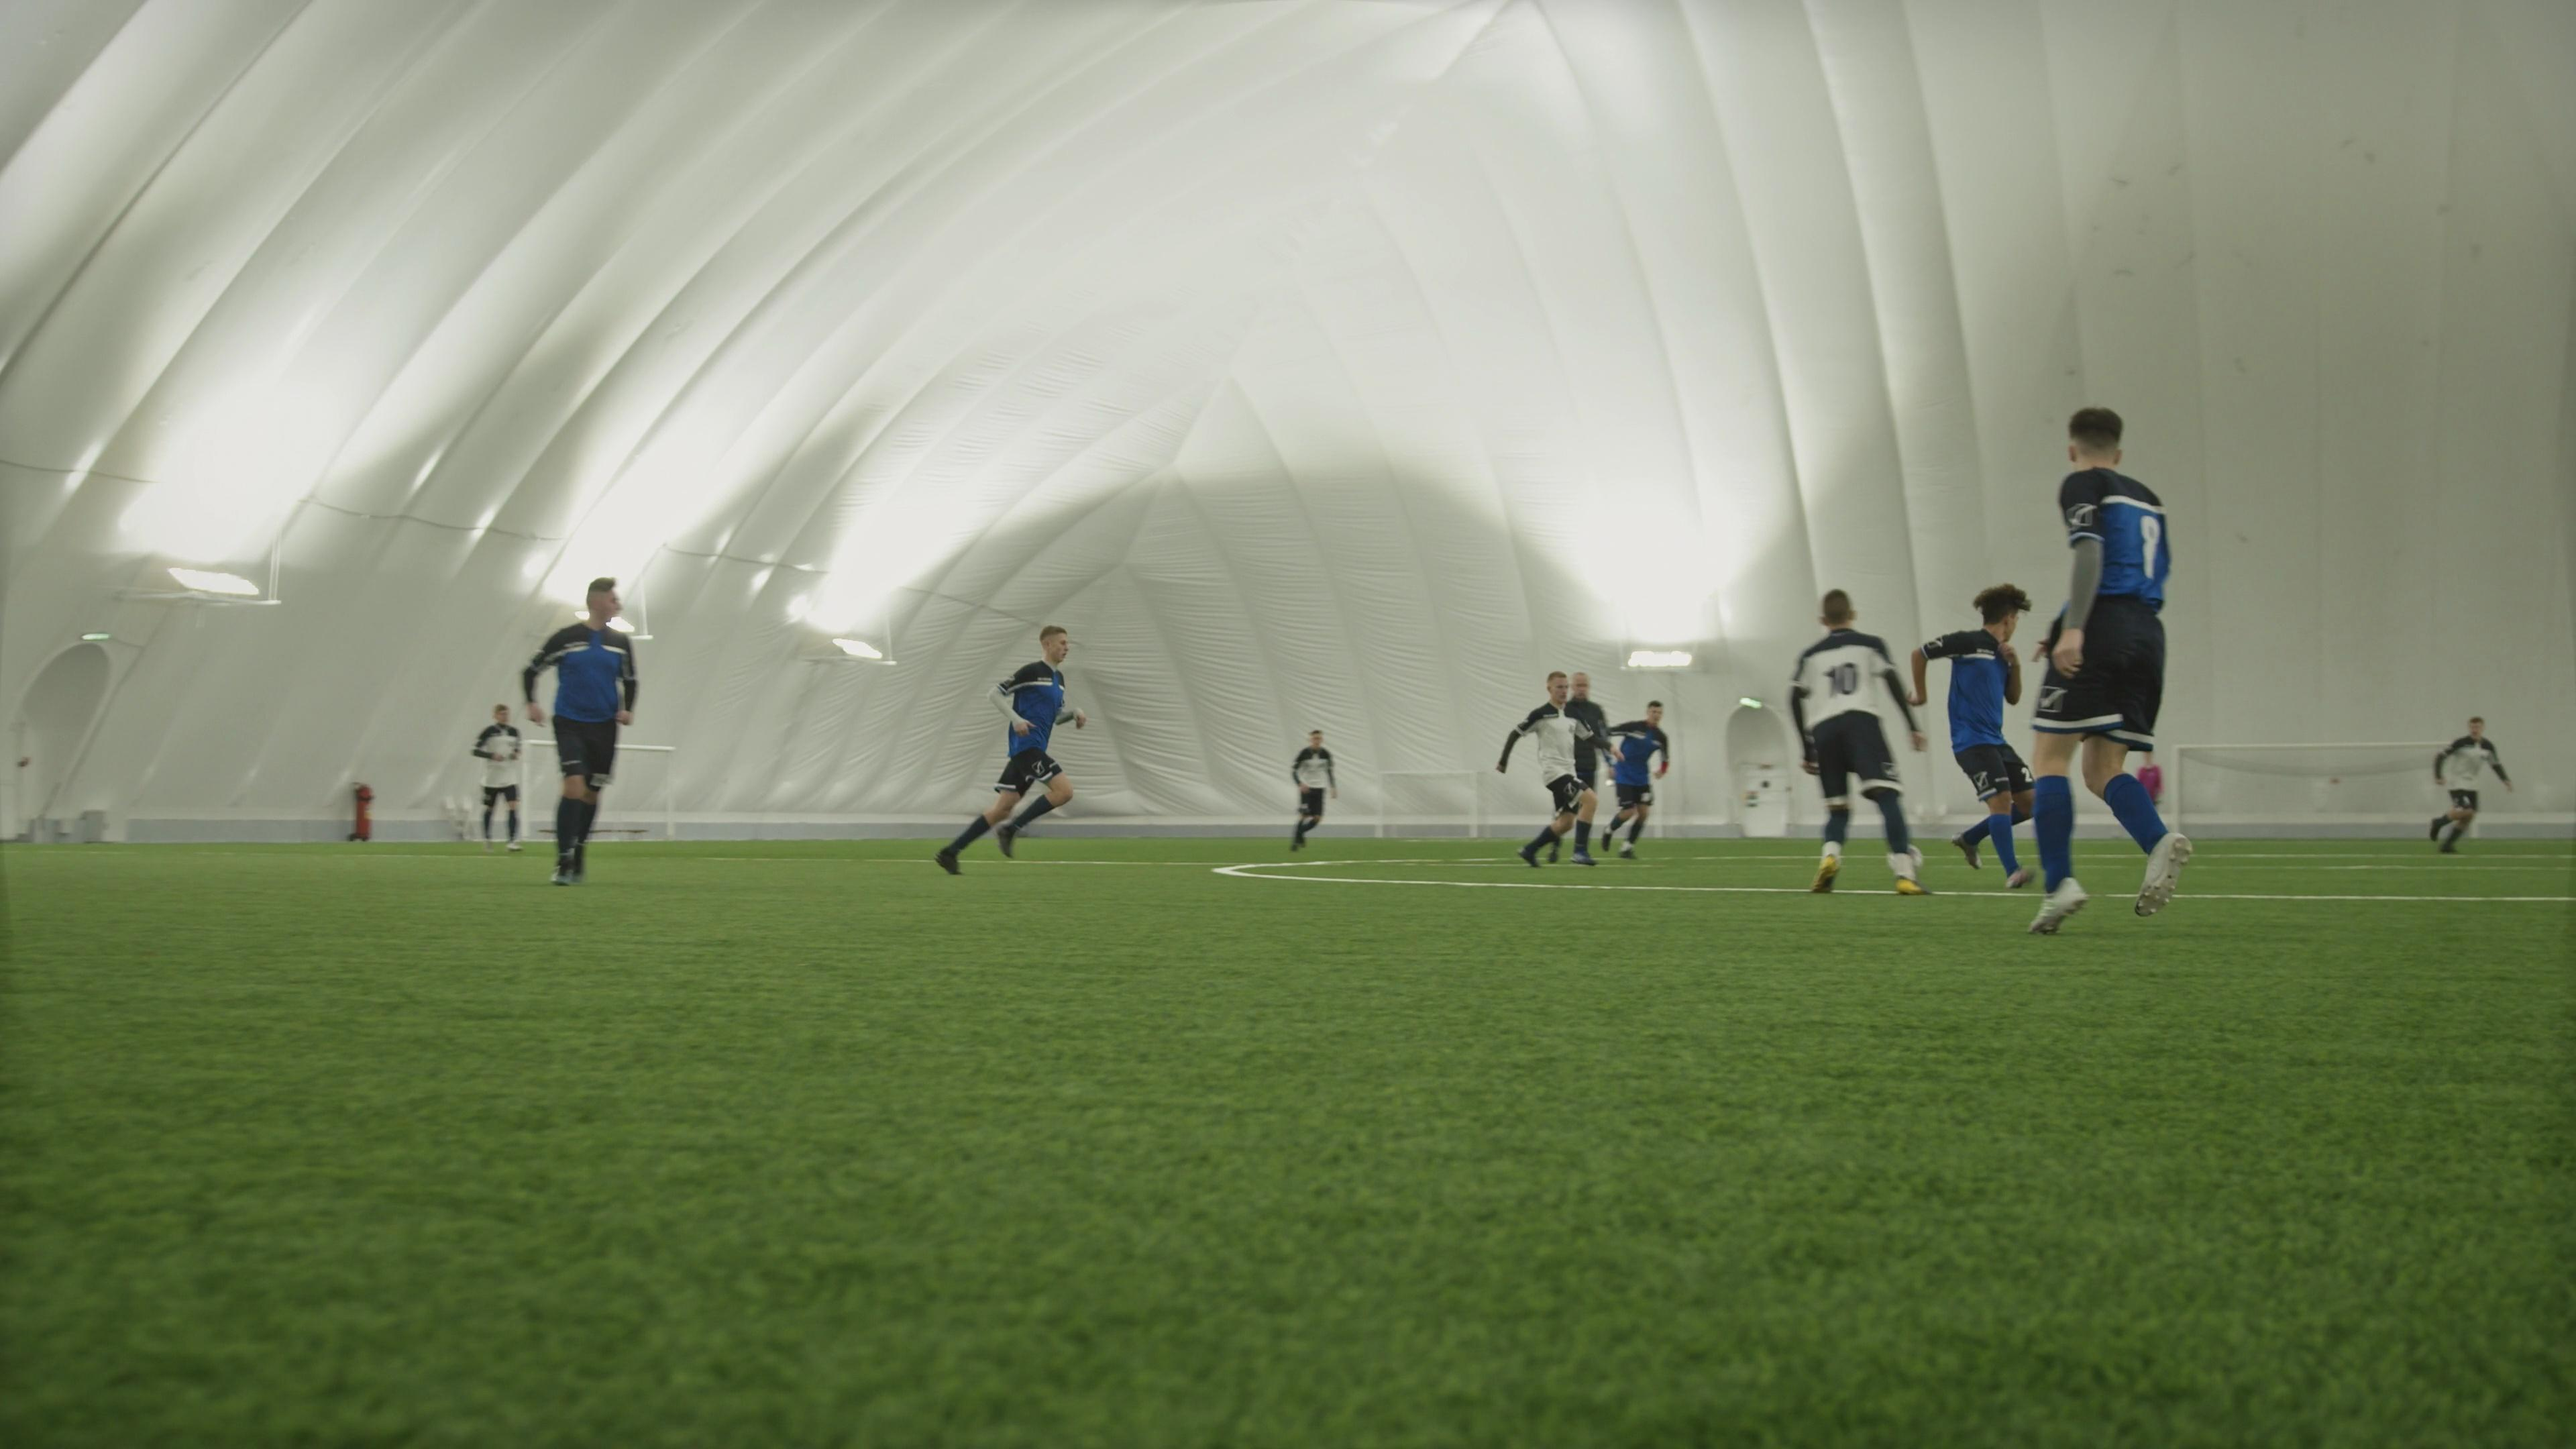other: (1569, 671, 1599, 849)
team1: (2019, 403, 2194, 931), (520, 577, 646, 886), (1918, 580, 2038, 890), (934, 625, 1081, 874), (1598, 704, 1668, 860)
team1gk: (2135, 743, 2162, 807)
team2: (1789, 586, 1927, 897), (1495, 667, 1576, 867), (2429, 709, 2514, 851), (471, 699, 527, 847), (1292, 724, 1338, 851)
